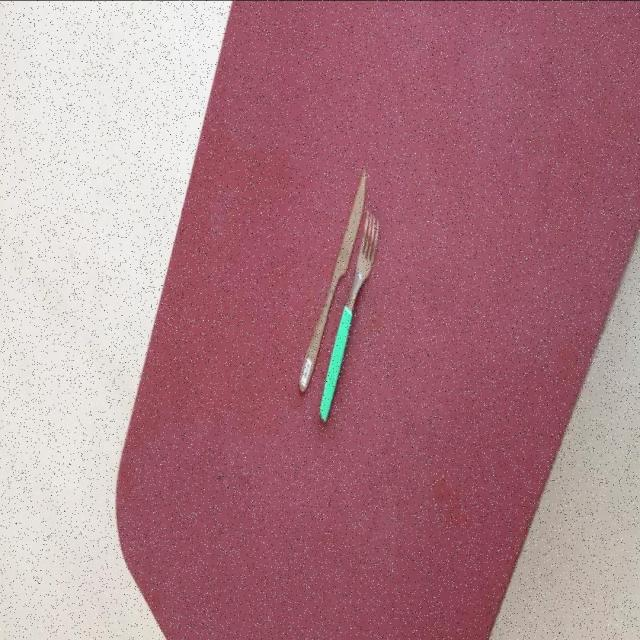Fork: (318, 207, 379, 422)
Knife: (297, 164, 367, 392)
